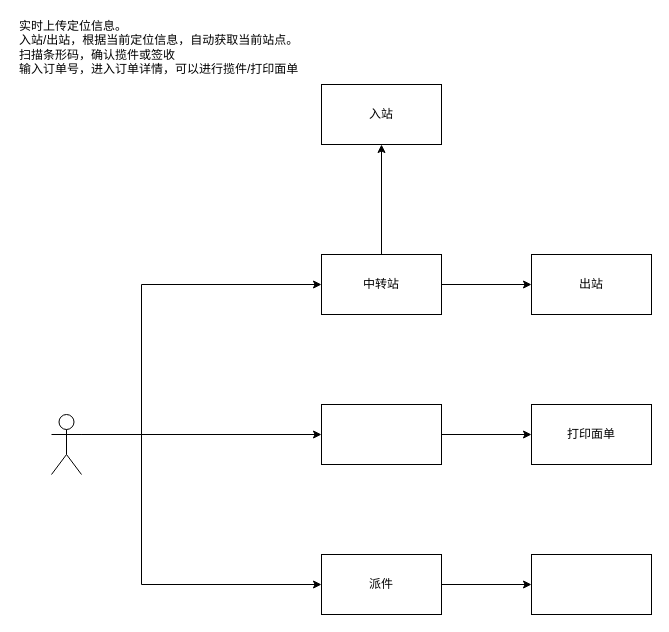
Some shapes in this 669 by 632 pixel diagram are drawn without their labels. Each missing label, with the centre of its shape:
"快递员" goes at point 66,444.
"揽件" goes at point 381,434.
"签收" goes at point 591,584.
